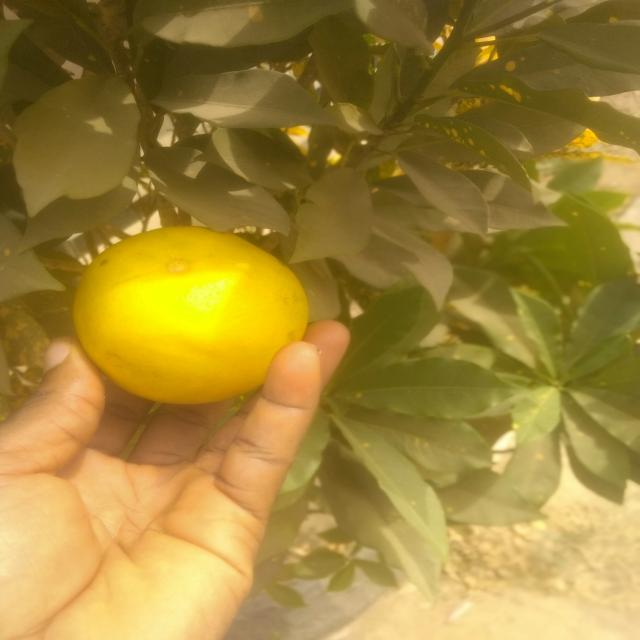Ripe orange: (76, 225, 319, 410)
